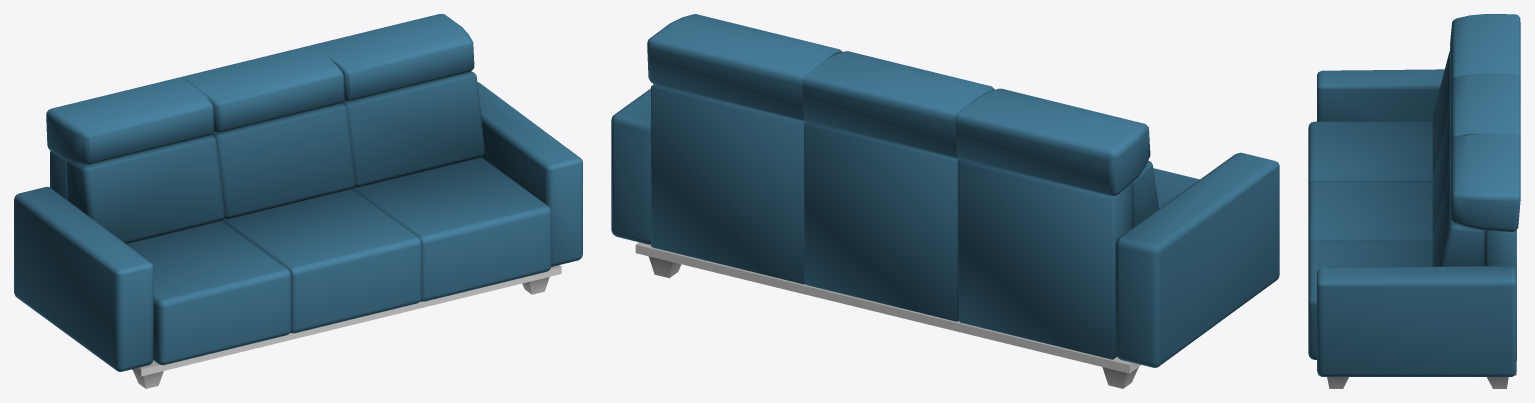
File: Sofa_01.fbx
3 renders of one model, left to right at view 1: azimuth 30°, elevation 25°; view 2: azimuth 150°, elevation 25°; view 3: azimuth 270°, elevation 25°, orthographic. The views are drawn at different scales.
Parts seen in each view (by area): view 1: Sofa_01 1; view 2: Sofa_01 1; view 3: Sofa_01 1.
Boxes of the visible parts, box(x1,y1,x2,y2) form: Sofa_01 1: box(14, 14, 582, 388); Sofa_01 1: box(611, 14, 1279, 388); Sofa_01 1: box(1308, 14, 1520, 388).
Size of the model in its own units: 2.09 by 0.882 by 0.8732.
